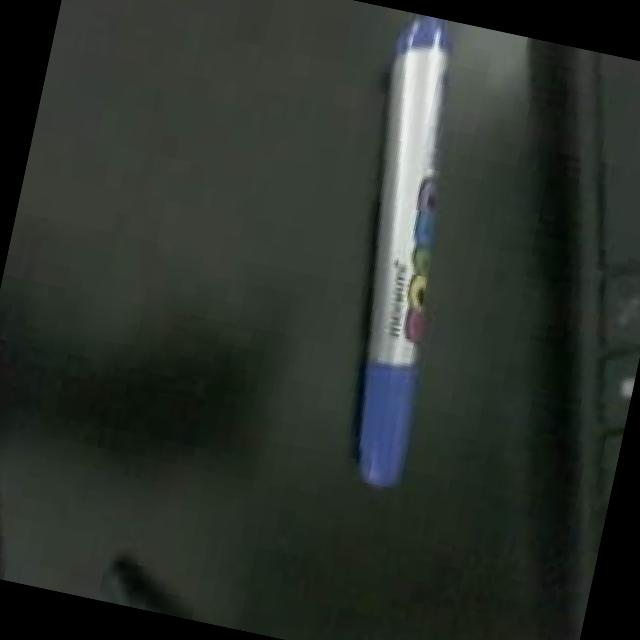board-marker: (358, 14, 447, 485)
